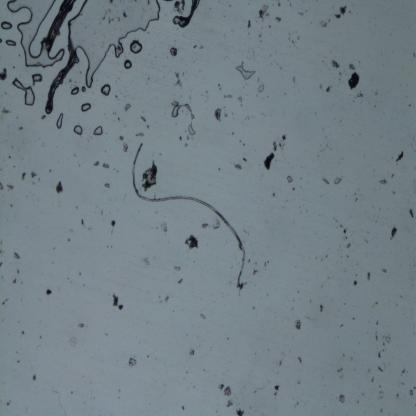Air bubble: (67, 0, 162, 92), (6, 1, 66, 68), (12, 78, 37, 108), (173, 103, 197, 122), (235, 64, 257, 80), (129, 40, 144, 54), (30, 72, 44, 84), (101, 84, 112, 98), (80, 101, 92, 113), (186, 123, 196, 137), (56, 113, 64, 130), (93, 126, 104, 137), (73, 124, 83, 136), (1, 20, 13, 30), (124, 59, 133, 71), (70, 86, 80, 96), (257, 83, 266, 94), (5, 38, 17, 46), (81, 84, 86, 92), (140, 116, 146, 122)
Background material: (332, 216, 352, 252), (140, 158, 159, 193), (103, 8, 119, 26), (184, 235, 200, 251), (333, 5, 349, 21), (172, 0, 186, 16), (347, 72, 359, 90), (264, 152, 276, 170), (329, 54, 340, 73), (210, 214, 222, 231), (258, 4, 268, 23), (157, 292, 171, 305), (286, 30, 296, 48), (293, 317, 304, 332), (213, 108, 223, 124), (166, 45, 179, 57), (272, 380, 281, 397), (159, 221, 169, 236), (278, 134, 288, 148), (0, 68, 10, 82), (111, 291, 119, 308), (389, 226, 398, 241), (127, 356, 138, 368), (0, 106, 13, 116), (173, 72, 182, 86), (223, 385, 233, 397), (395, 151, 405, 163), (375, 364, 385, 376), (199, 221, 211, 231), (102, 180, 112, 192), (186, 345, 196, 357), (133, 130, 146, 139), (374, 320, 379, 343), (57, 182, 65, 196), (338, 393, 348, 404), (321, 176, 331, 187), (332, 175, 342, 186), (216, 380, 225, 392), (378, 177, 388, 187), (379, 266, 389, 276), (233, 162, 243, 172), (295, 354, 304, 365), (234, 406, 245, 415), (408, 206, 415, 220), (214, 79, 222, 91), (124, 101, 132, 113), (286, 174, 294, 186), (352, 192, 360, 204), (6, 182, 16, 191), (347, 61, 356, 71), (222, 92, 233, 100), (246, 17, 252, 31), (366, 270, 372, 284), (1, 296, 10, 305), (19, 171, 28, 180), (275, 14, 284, 23), (100, 162, 110, 170), (13, 251, 21, 261), (76, 322, 86, 330), (143, 256, 150, 267), (30, 170, 38, 179), (384, 336, 393, 344), (236, 94, 244, 103), (326, 84, 333, 94), (320, 18, 327, 28), (79, 218, 86, 228), (408, 388, 415, 398), (31, 372, 37, 383), (296, 9, 304, 17), (122, 145, 130, 153), (198, 312, 206, 320), (92, 160, 100, 168), (226, 400, 234, 408), (173, 266, 181, 274), (46, 288, 54, 296), (118, 303, 125, 312), (252, 267, 258, 277), (272, 140, 278, 150), (352, 278, 358, 288), (0, 181, 5, 193), (6, 398, 13, 406), (176, 276, 183, 284), (319, 303, 324, 314), (377, 351, 383, 360), (277, 357, 283, 366), (370, 375, 376, 384), (401, 367, 406, 377), (100, 207, 105, 217), (250, 304, 257, 311), (240, 155, 247, 162), (118, 134, 124, 142), (180, 403, 185, 412), (110, 219, 115, 228), (12, 277, 18, 284), (338, 367, 344, 374), (263, 260, 269, 267), (380, 390, 384, 400), (15, 266, 20, 274), (123, 10, 128, 18), (270, 191, 276, 197), (277, 2, 282, 9), (197, 44, 204, 49), (267, 22, 272, 29), (396, 391, 401, 398), (291, 76, 296, 83), (77, 269, 82, 276), (0, 260, 4, 268), (179, 134, 183, 142), (108, 0, 116, 4), (48, 166, 52, 174), (146, 1, 152, 6), (323, 253, 328, 259), (41, 115, 47, 120), (65, 237, 71, 242), (291, 187, 296, 192), (352, 315, 356, 321), (21, 328, 24, 336), (194, 44, 198, 50), (340, 322, 344, 328), (379, 408, 383, 414), (12, 64, 16, 69), (147, 123, 150, 129), (16, 359, 20, 363), (184, 143, 188, 147), (19, 127, 23, 131), (401, 382, 406, 385), (118, 116, 121, 121), (218, 167, 221, 171), (232, 132, 234, 136), (10, 204, 13, 206)
Cellulose filter fibre: (45, 35, 79, 110), (45, 1, 74, 48), (178, 1, 200, 26)
Microfibre: (130, 141, 246, 292)
